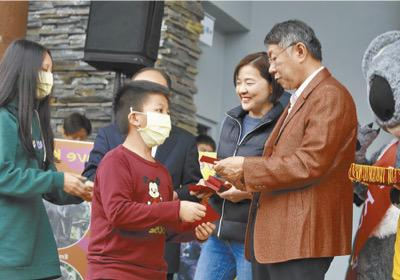with_mask: (137, 102, 172, 148), (33, 62, 54, 101)
without_mask: (266, 49, 299, 91), (234, 75, 267, 111)
